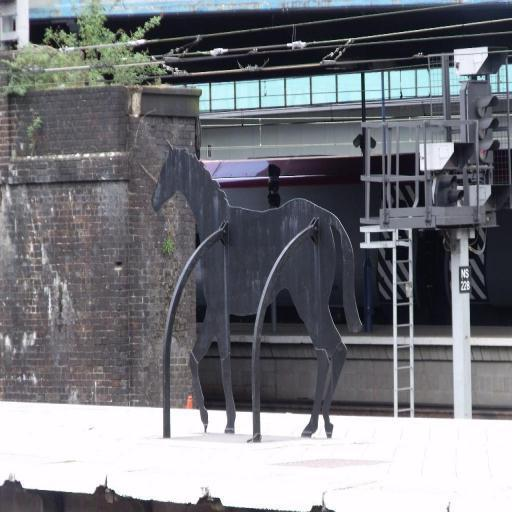horse: (150, 140, 362, 438)
